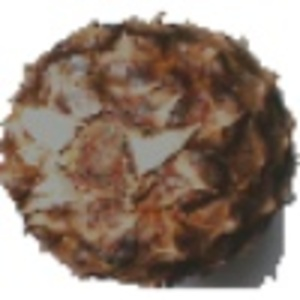abacaxi: (4, 12, 294, 282)
